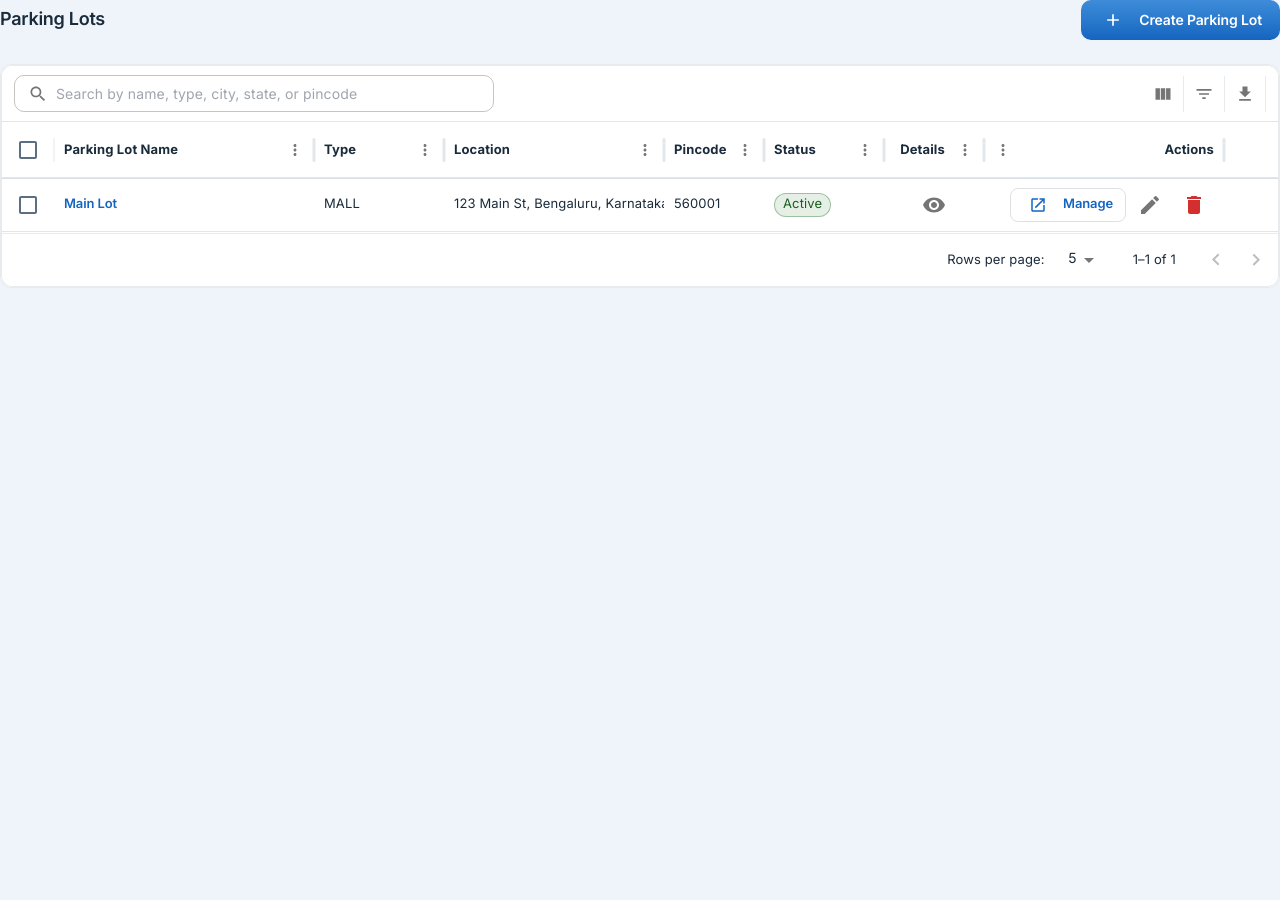
Test: ParkingLotsPage › deletes a parking lot after confirmation
Check: the link "Main Lot" is shown, box [64,196,117,212]
Click the button named "Delete Main Lot". click: (1194, 204)
box: [1174,184,1214,224]
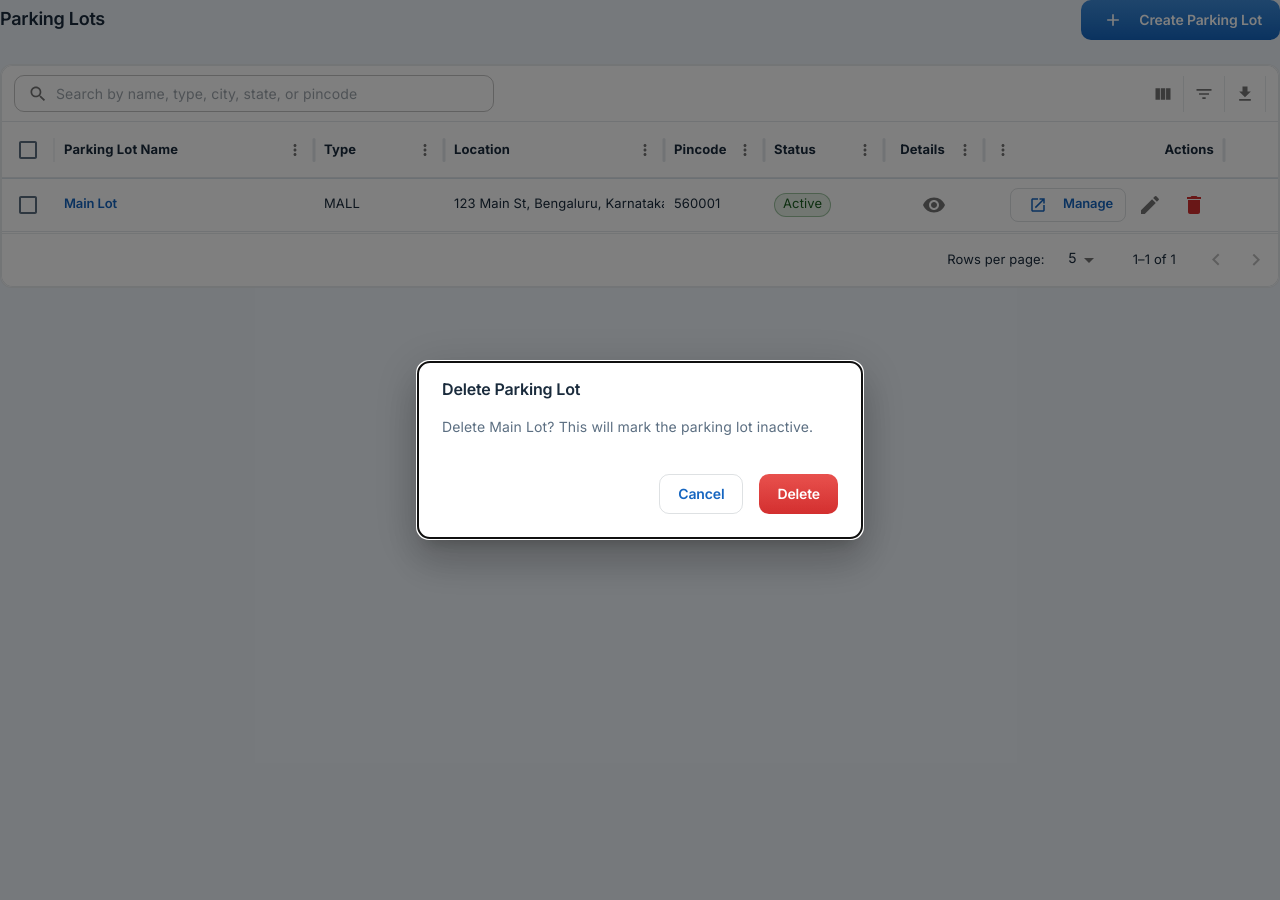
Check: the text "Delete Main Lot? This will mark the parking lot inactive." is shown, box [442,417,838,438]
Click the button "Delete". click: (799, 494)
box: [759,474,838,514]
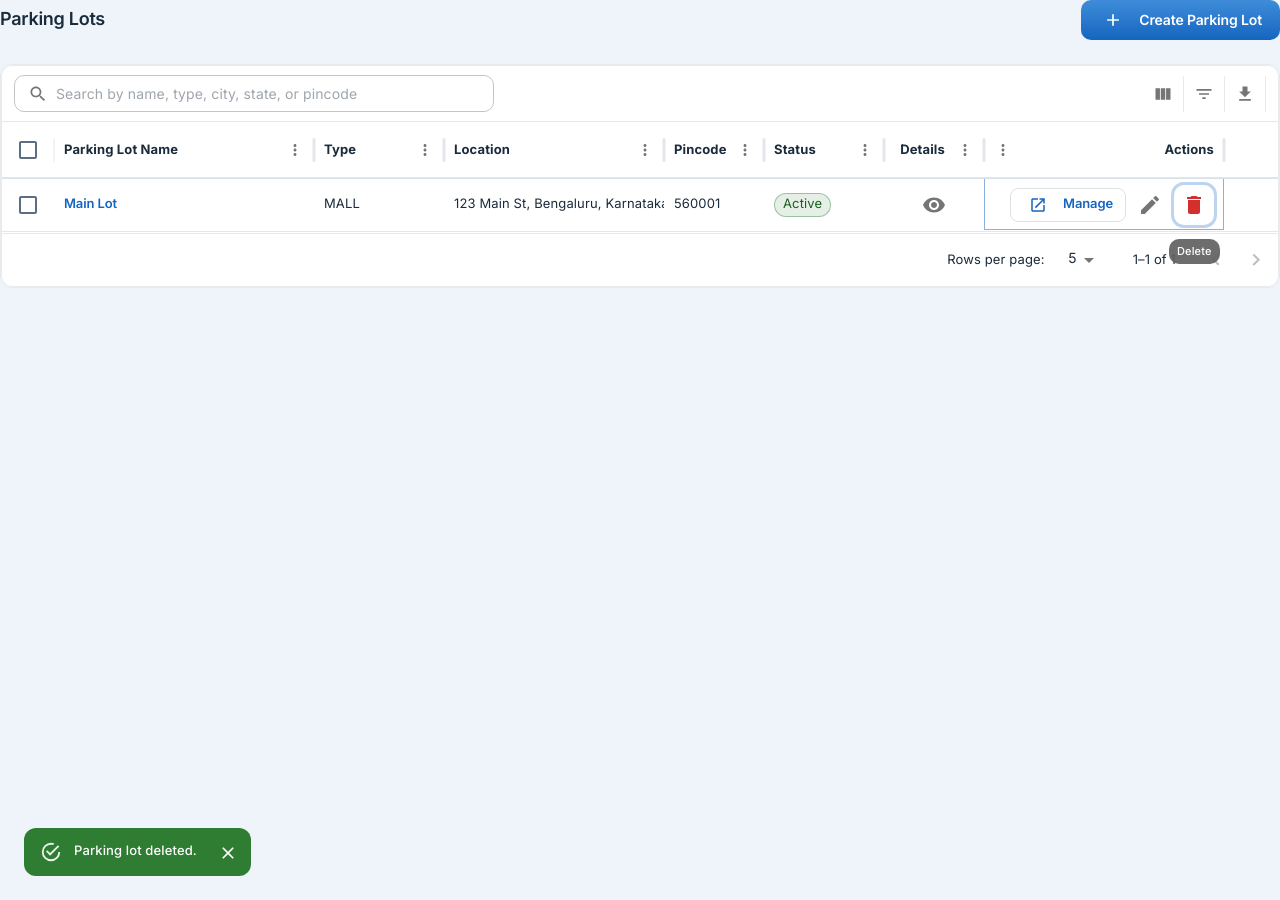
Check: the text "Parking lot deleted." is shown, box [74,843,197,859]
